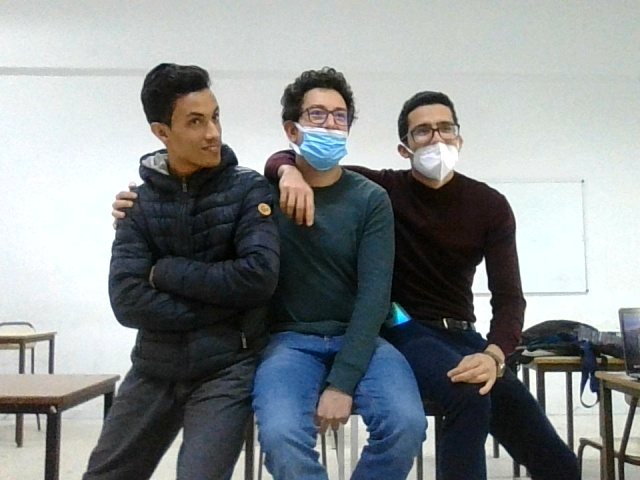mask_weared_incorrect: (278, 67, 378, 174), (391, 93, 473, 197)
without_mask: (139, 69, 232, 173)
